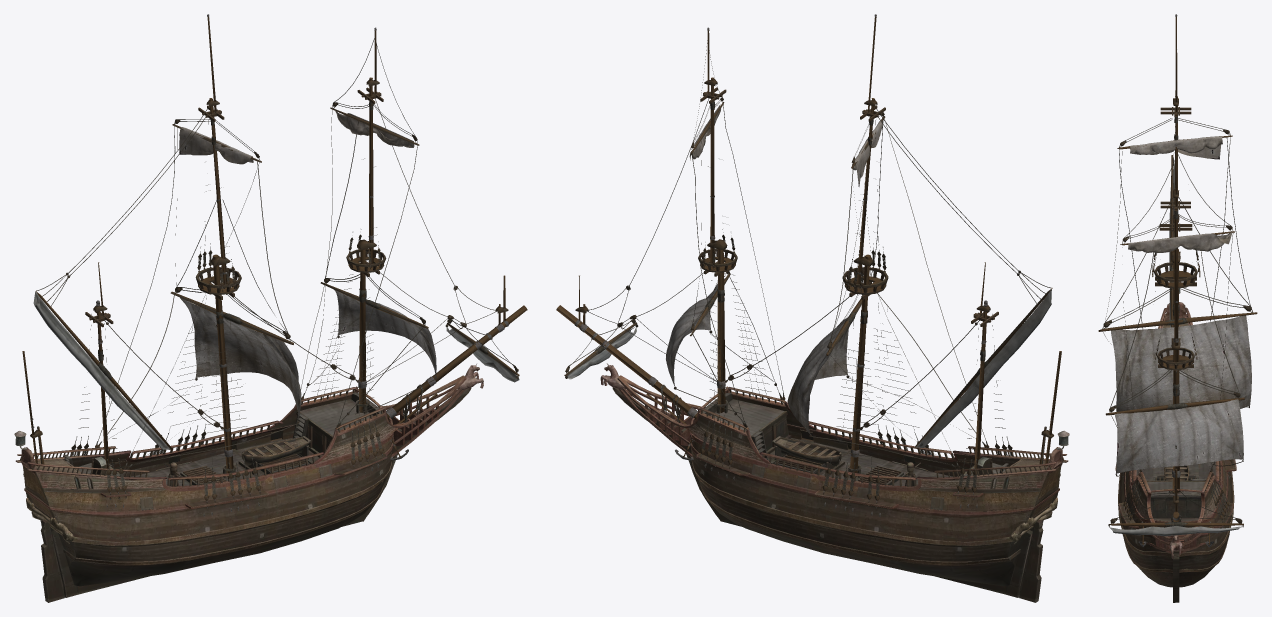
Rendered from ship-hulk.glb.
The picture shows the model from 3 angles, left to right: view 1: azimuth 30°, elevation 25°; view 2: azimuth 150°, elevation 25°; view 3: azimuth 270°, elevation 25°; orthographic projection. The views are drawn at different scales.
Parts seen in each view (by area): view 1: dutch_ship_medium_hull, dutch_ship_medium_rigging, dutch_ship_medium_sails; view 2: dutch_ship_medium_hull, dutch_ship_medium_rigging, dutch_ship_medium_sails; view 3: dutch_ship_medium_sails, dutch_ship_medium_rigging, dutch_ship_medium_hull.
Part boxes in pixels (x1,y1,x2,y2): dutch_ship_medium_hull: [14, 364, 483, 602]; dutch_ship_medium_rigging: [22, 14, 527, 516]; dutch_ship_medium_sails: [179, 111, 436, 419]; dutch_ship_medium_hull: [600, 363, 1069, 602]; dutch_ship_medium_rigging: [556, 14, 1061, 516]; dutch_ship_medium_sails: [666, 104, 882, 434]; dutch_ship_medium_sails: [1111, 136, 1251, 473]; dutch_ship_medium_rigging: [1098, 14, 1257, 547]; dutch_ship_medium_hull: [1115, 288, 1236, 602].
Bounding box in the file's own units: 24.08 × 24.66 × 6.81.
3 materials, 3 textured.
